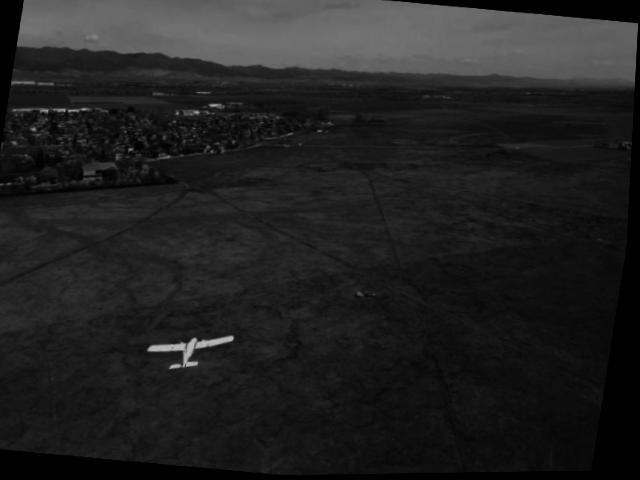hedef: (139, 311, 252, 391)
